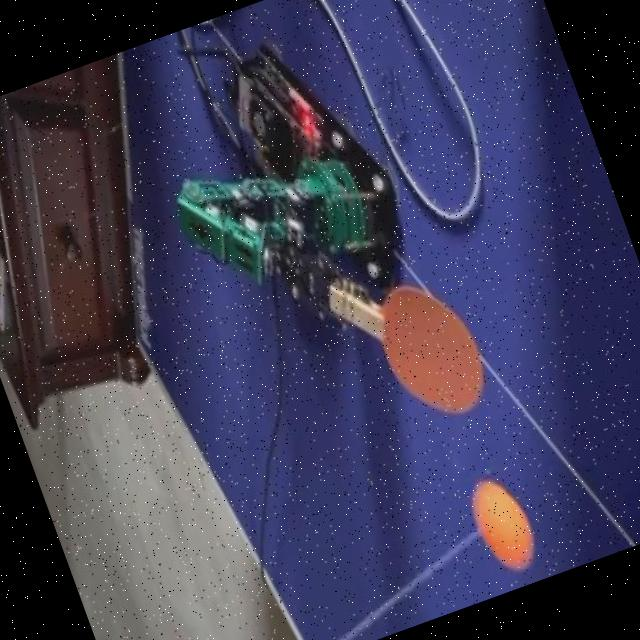ping-pong-ball: (462, 474, 540, 576)
